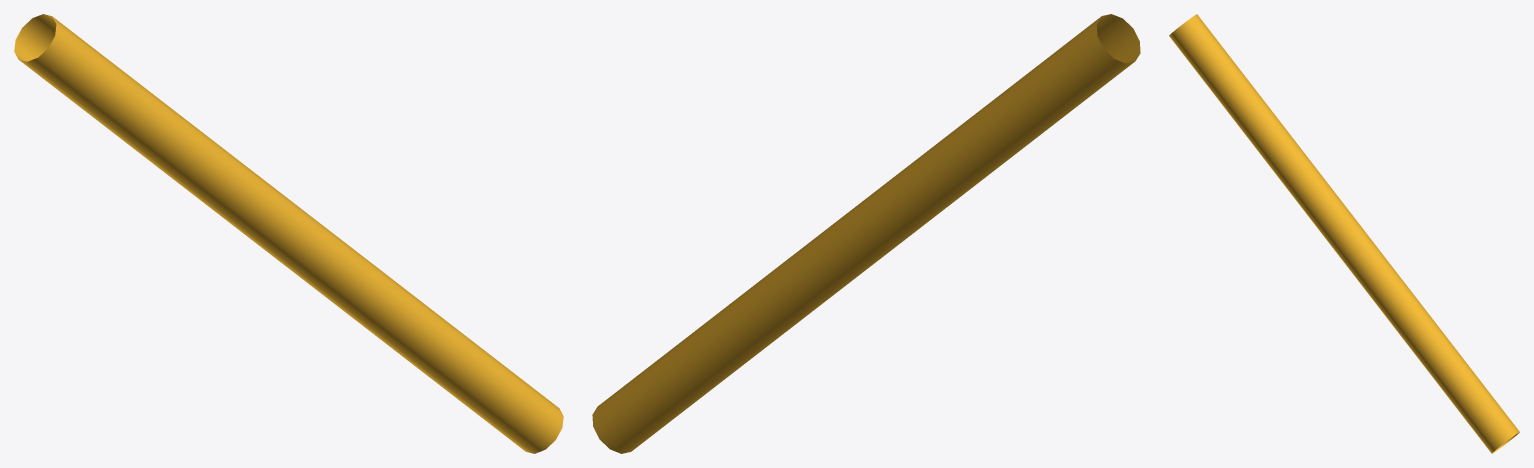
File: nervoso-posterior-cord-of-brachial-plexus-l.glb
3 views of the same model, side by side, from view 1: azimuth 30°, elevation 25°; view 2: azimuth 150°, elevation 25°; view 3: azimuth 330°, elevation 25° (orthographic). The views are drawn at different scales.
Parts seen in each view (by area): view 1: Posterior cord of brachial plexus.l; view 2: Posterior cord of brachial plexus.l; view 3: Posterior cord of brachial plexus.l.
Boxes of the visible parts, x1=… form: Posterior cord of brachial plexus.l: x1=14, y1=14, x2=563, y2=453; Posterior cord of brachial plexus.l: x1=592, y1=14, x2=1140, y2=453; Posterior cord of brachial plexus.l: x1=1169, y1=14, x2=1519, y2=453.
Bounding box in the file's own units: 0.0224 × 0.0218 × 0.00259.
